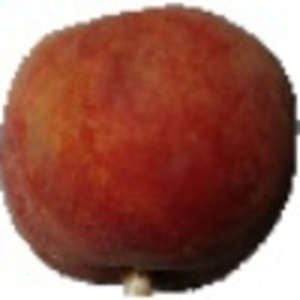pêssego: (1, 3, 300, 300)
